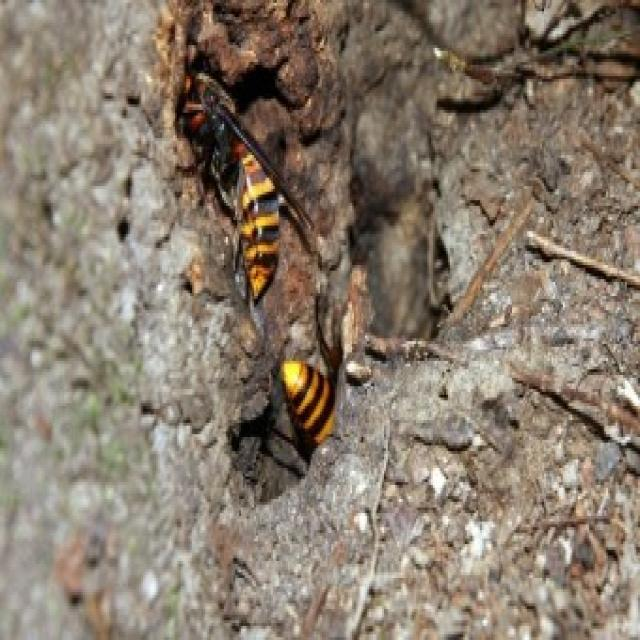Wasp: (180, 66, 315, 296), (280, 302, 353, 451)
